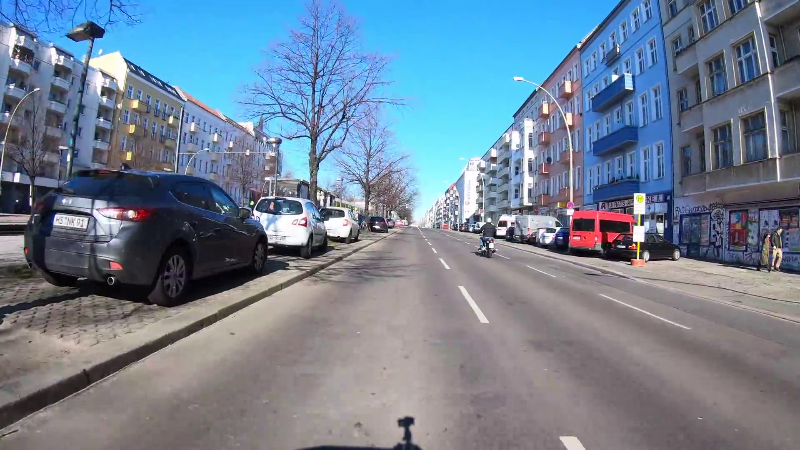Plate: (47, 212, 90, 231)
